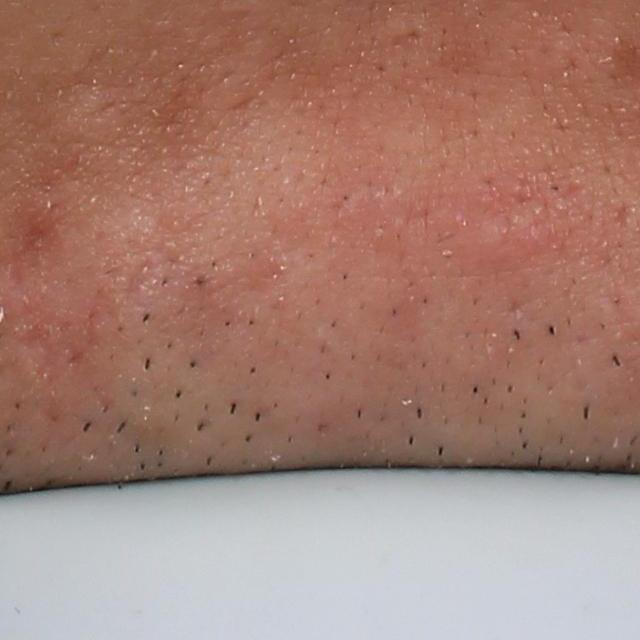atrophic_scar: (388, 26, 422, 53)
hypertrophic_scar: (50, 88, 130, 157)
